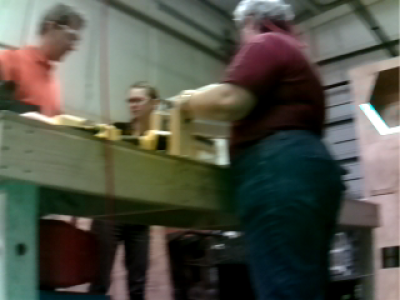target: (357, 102, 400, 134)
